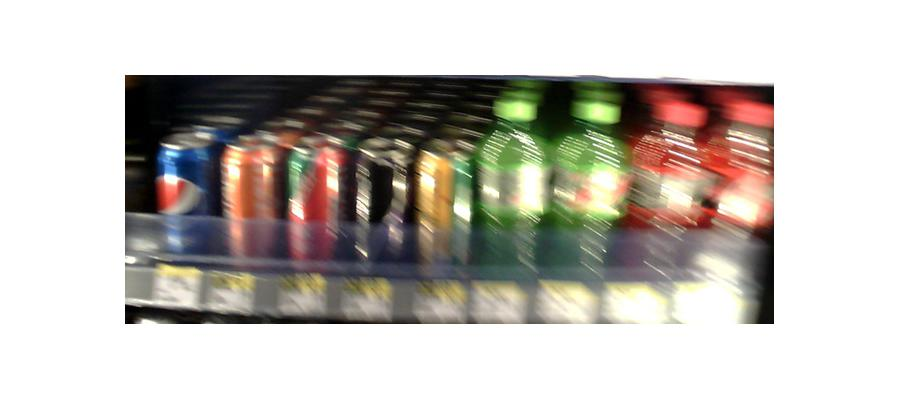bottle: (550, 97, 627, 313), (475, 84, 547, 299), (415, 124, 473, 294), (354, 129, 412, 285), (286, 144, 348, 276), (221, 133, 281, 261), (156, 131, 213, 255)
